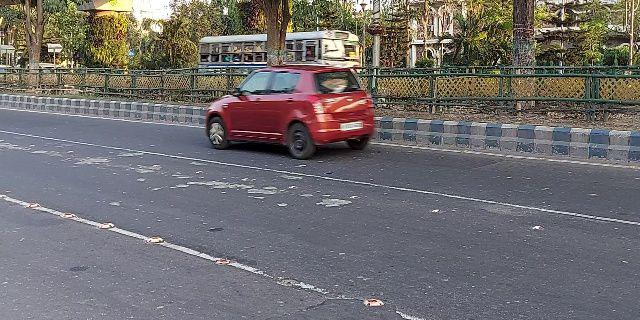Car: (202, 61, 377, 160)
